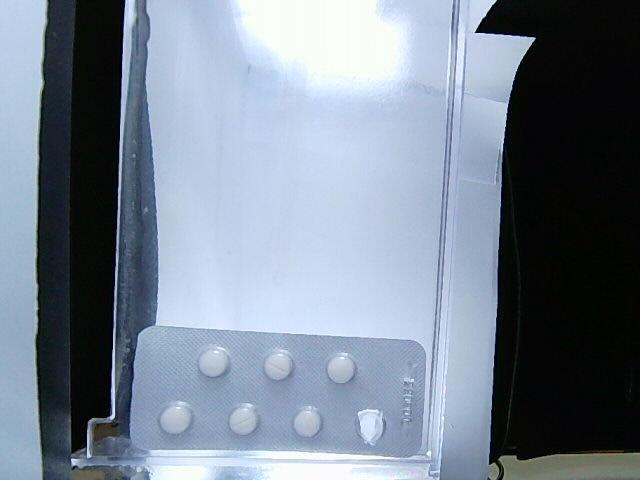Light Front: (130, 326, 427, 460)
No Pill Front: (358, 409, 384, 446)
Pill Front: (159, 401, 194, 434), (229, 403, 260, 436), (198, 346, 230, 377), (264, 349, 294, 381), (326, 353, 356, 384), (293, 406, 323, 437)
